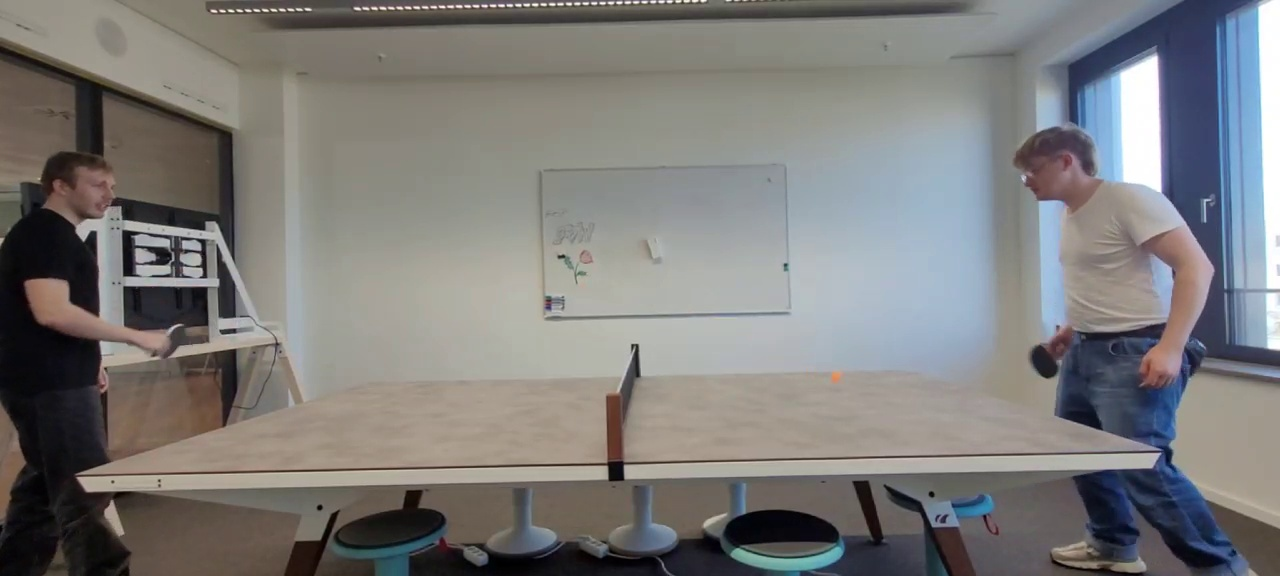plate: (75, 370, 1160, 476)
racket: (1031, 344, 1058, 378), (161, 324, 185, 359)
ttball: (832, 371, 840, 381)
